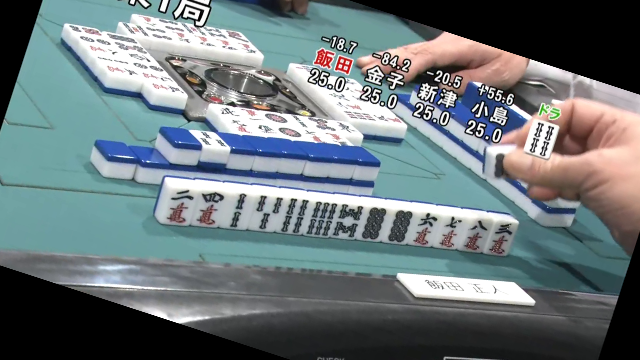Tehai: (154, 174, 515, 258)
